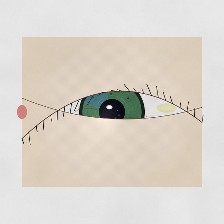pinguecula_lesion: (146, 92, 187, 124)
